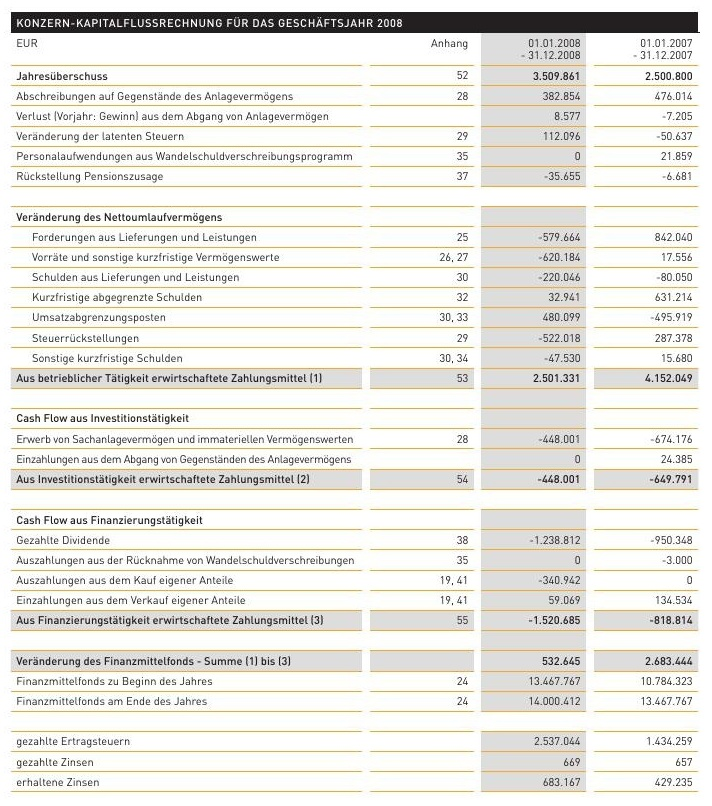table: (0, 0, 712, 806)
